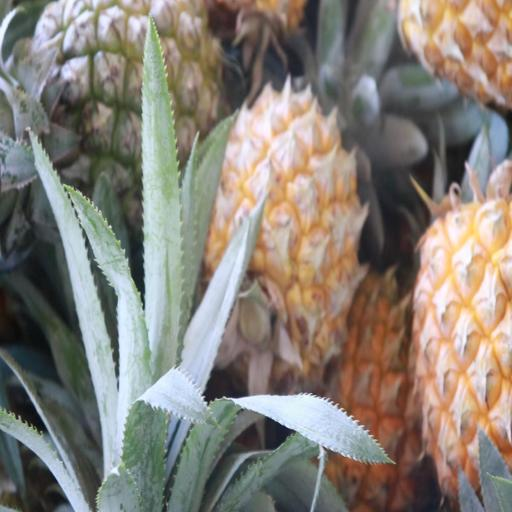Pineapple - v8 v1: (205, 96, 362, 380), (410, 198, 512, 504), (307, 269, 411, 508)
